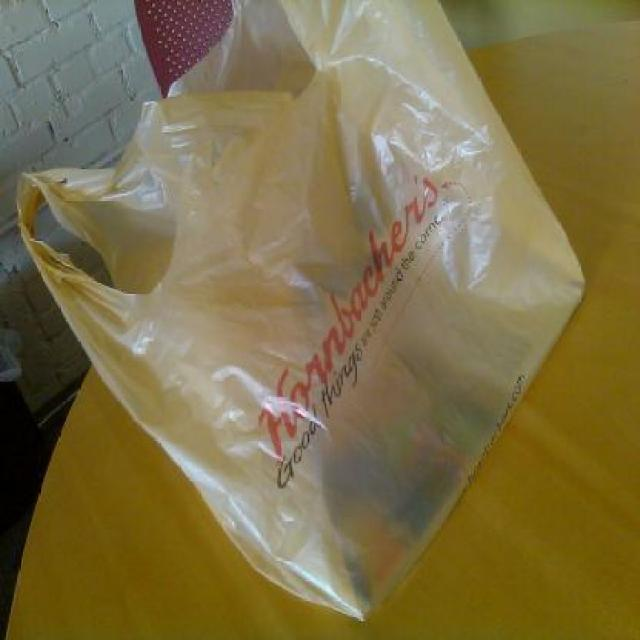plastic bag: (12, 0, 588, 623)
